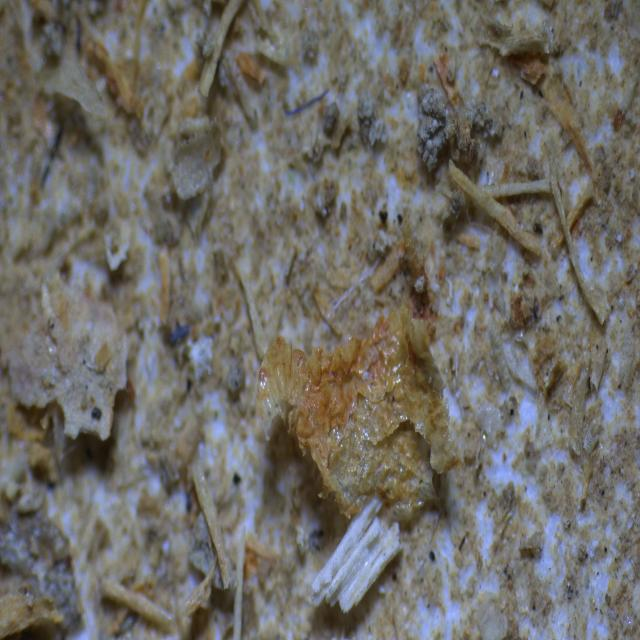microplastic: (233, 302, 471, 553)
